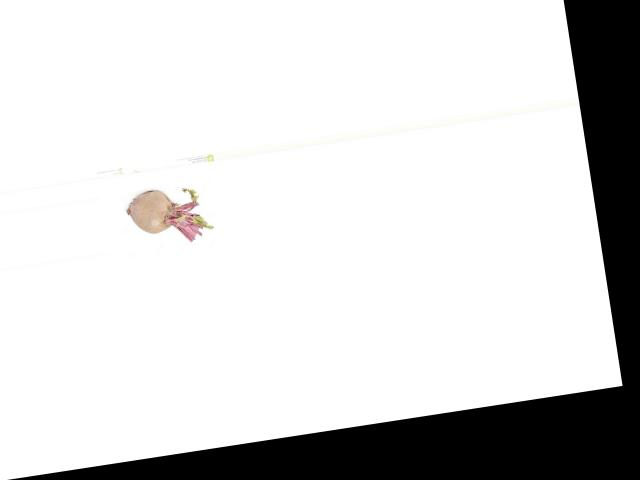beet: (123, 182, 214, 250)
